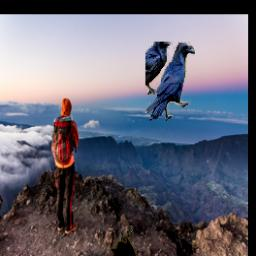Crow: (146, 43, 196, 123), (112, 226, 143, 256)
